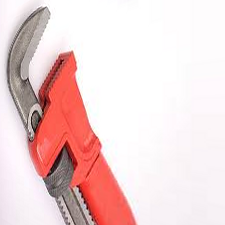Wrench: (6, 7, 142, 225)
